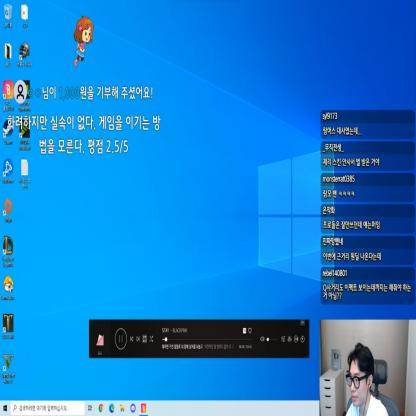donation: (7, 15, 161, 155)
streamer: (346, 342, 388, 416)
